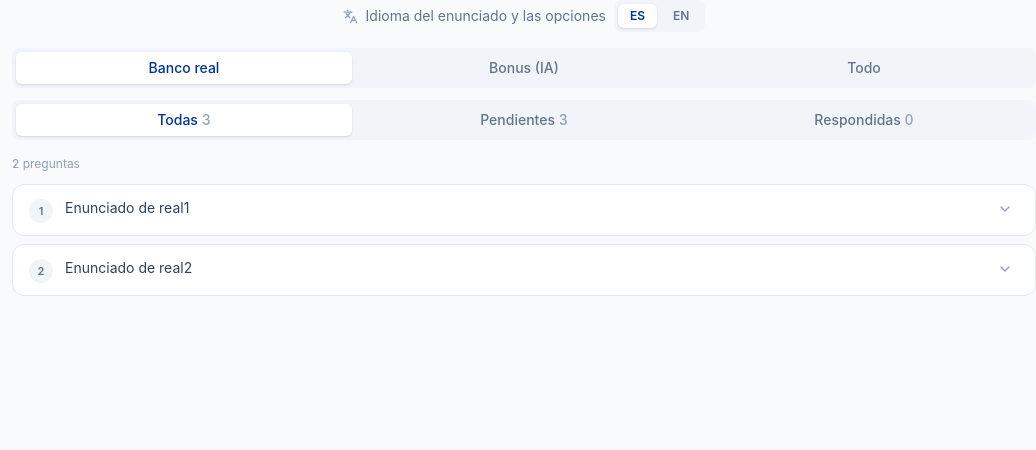
Scenario: acordeón › al abrir una pregunta se ven sus opciones
Step 1. Click the button named "Abrir la pregunta" in the row of "Enunciado de real1" → (1005,209), box [991, 195, 1019, 223]
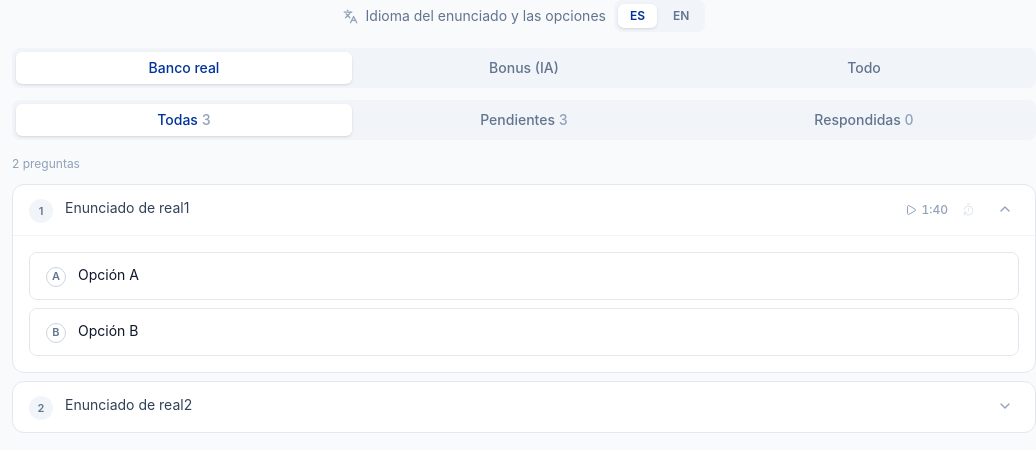
Expected: the text "Opción A" is shown, [78, 266, 139, 283]
